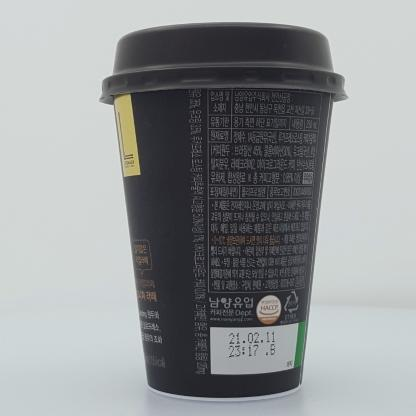-------------: (99, 22, 348, 402)
